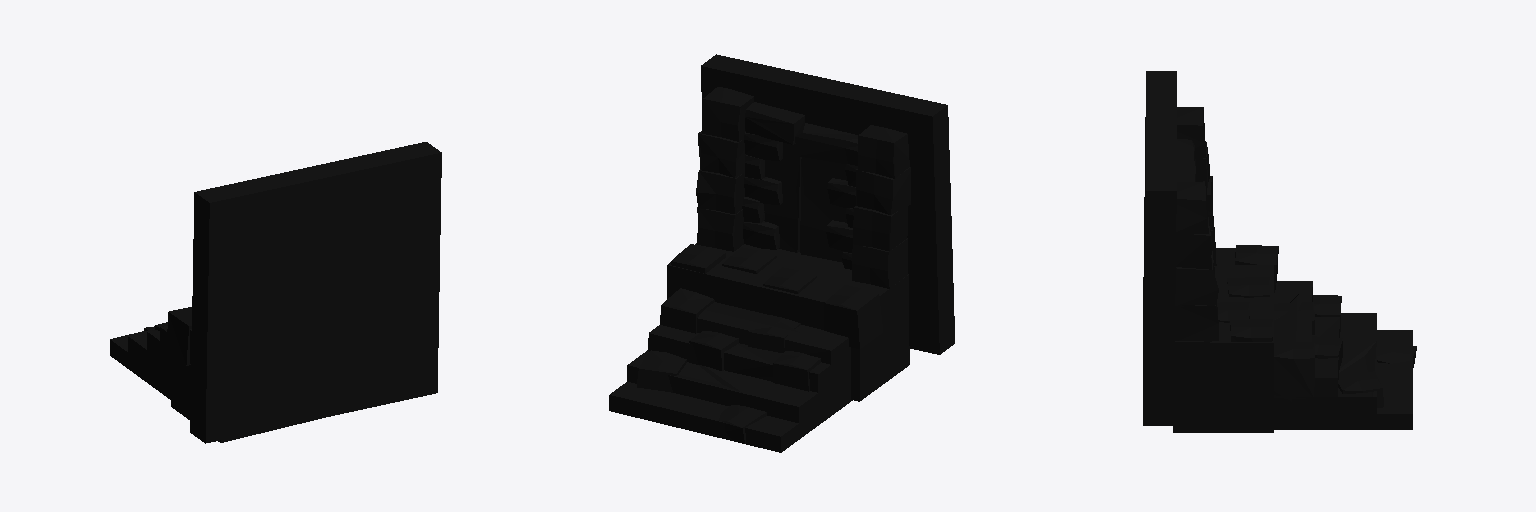
Rendered from dungeonDoor.obj.
The picture shows the model from 3 angles: view 1: azimuth 30°, elevation 25°; view 2: azimuth 150°, elevation 25°; view 3: azimuth 270°, elevation 25°; orthographic projection.
Visible parts, largest first — view 1: group[number redacted], group[number redacted], group[number redacted]; view 2: group[number redacted], group[number redacted], group[number redacted], group[number redacted], group[number redacted], group[number redacted], group[number redacted], group[number redacted], group[number redacted], group[number redacted], group[number redacted], group[number redacted] (+14 smaller); view 3: group[number redacted], group[number redacted], group[number redacted], group[number redacted], group[number redacted], group[number redacted], group[number redacted], group[number redacted], group[number redacted], group[number redacted], group[number redacted], group[number redacted] (+4 smaller).
Part boxes in pixels (left/top/right/bottom): group[number redacted]: left=190, top=142, right=441, bottom=443; group[number redacted]: left=110, top=325, right=321, bottom=442; group[number redacted]: left=167, top=307, right=191, bottom=365; group[number redacted]: left=609, top=243, right=909, bottom=452; group[number redacted]: left=701, top=54, right=954, bottom=354; group[number redacted]: left=852, top=125, right=910, bottom=288; group[number redacted]: left=800, top=157, right=846, bottom=262; group[number redacted]: left=824, top=285, right=882, bottom=348; group[number redacted]: left=764, top=143, right=801, bottom=252; group[number redacted]: left=702, top=87, right=753, bottom=141; group[number redacted]: left=795, top=123, right=857, bottom=165; group[number redacted]: left=745, top=102, right=804, bottom=144; group[number redacted]: left=696, top=169, right=744, bottom=213; group[number redacted]: left=697, top=207, right=743, bottom=251; group[number redacted]: left=698, top=131, right=745, bottom=177; group[number redacted]: left=1173, top=248, right=1412, bottom=432; group[number redacted]: left=1143, top=71, right=1176, bottom=425; group[number redacted]: left=1274, top=342, right=1314, bottom=398; group[number redacted]: left=1177, top=107, right=1216, bottom=265; group[number redacted]: left=1176, top=181, right=1208, bottom=237; group[number redacted]: left=1175, top=251, right=1218, bottom=306; group[number redacted]: left=1175, top=305, right=1218, bottom=341; group[number redacted]: left=1176, top=217, right=1211, bottom=269; group[number redacted]: left=1230, top=319, right=1272, bottom=341; group[number redacted]: left=1235, top=245, right=1278, bottom=292; group[number redacted]: left=1338, top=371, right=1383, bottom=407; group[number redacted]: left=1227, top=277, right=1269, bottom=297.
Size of the model in its own units: 1.07 by 1.11 by 1.06.